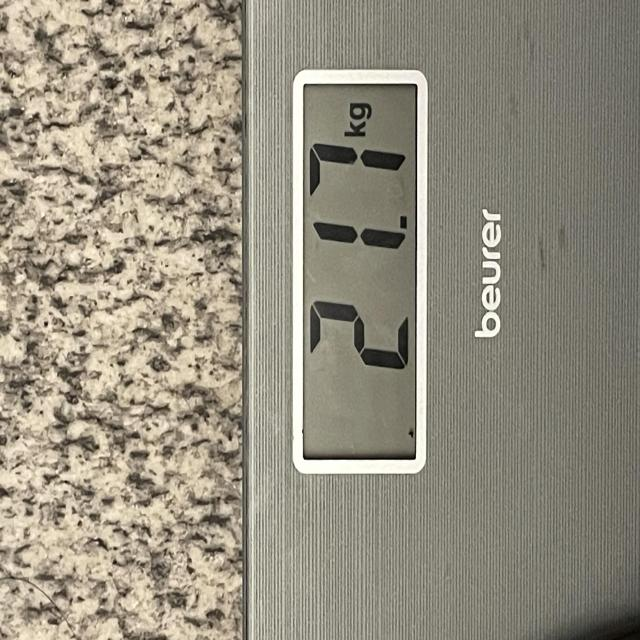ws: (241, 0, 640, 640)
